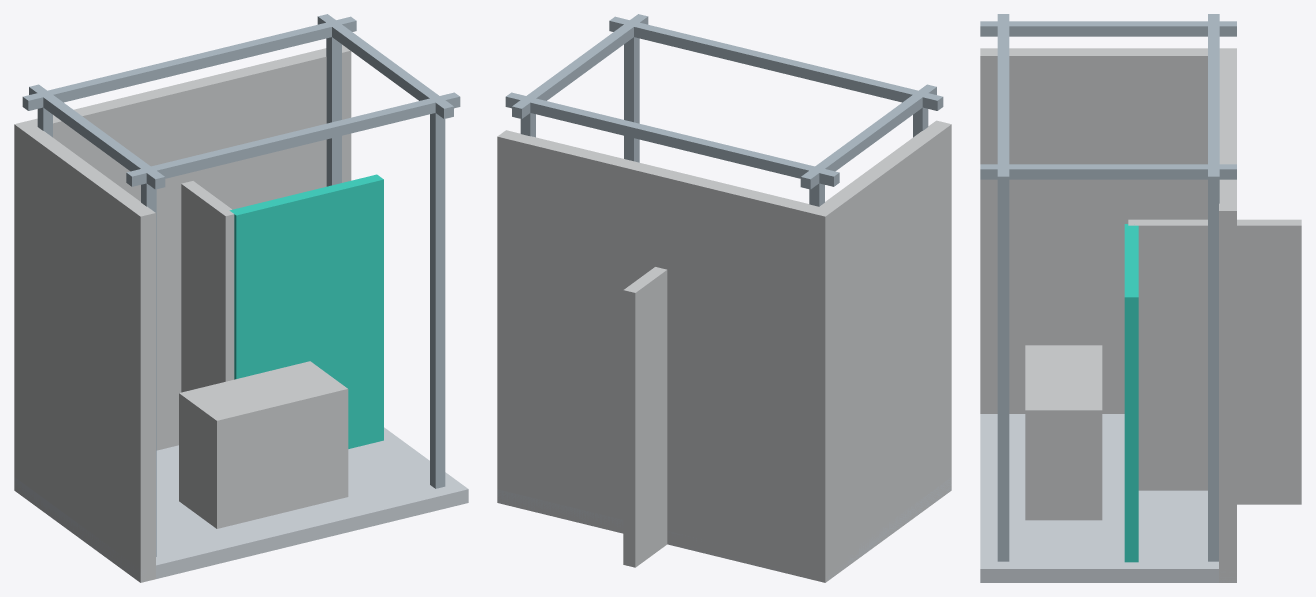
3 views of the same model, side by side, from view 1: azimuth 30°, elevation 25°; view 2: azimuth 150°, elevation 25°; view 3: azimuth 270°, elevation 25° (orthographic).
Visible parts, largest first — view 1: Exhibition Booth Concept; view 2: Exhibition Booth Concept; view 3: Exhibition Booth Concept.
Part boxes in pixels (x1,y1,x2,y2): Exhibition Booth Concept: [14, 14, 468, 582]; Exhibition Booth Concept: [497, 14, 951, 582]; Exhibition Booth Concept: [980, 14, 1301, 582].
Bounding box in the file's own units: 3 × 3.49 × 2.5.
